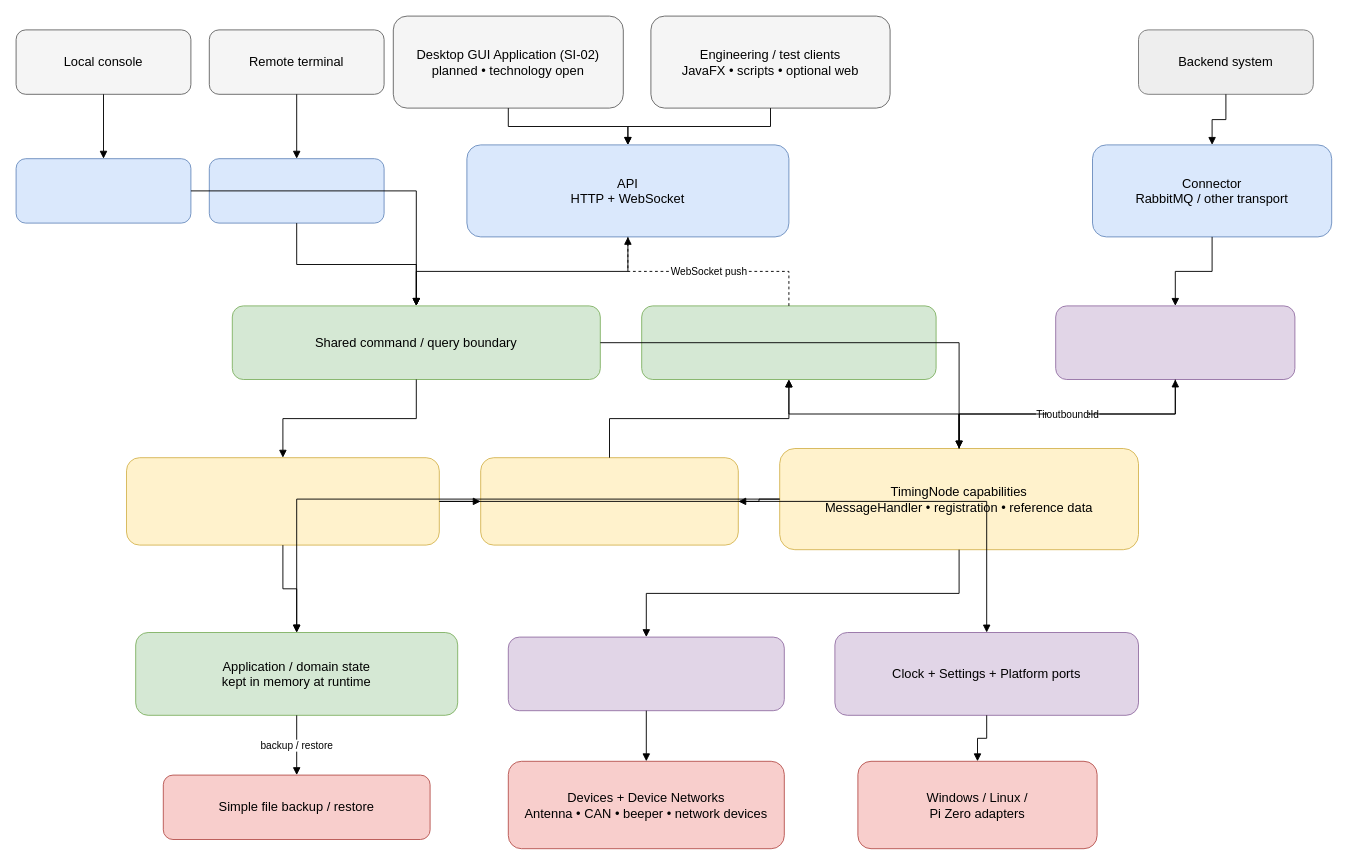
Some shapes in this 1348 by 865 pixel diagram are drawn without their labels. The shapes that lost their labels are listed below. From the top down, each one's centre as x and y in pixels, then its label:
(x=103, y=190): Console adapter
(x=296, y=190): Remote shell adapter
(x=788, y=342): Shared status + event stream
(x=1175, y=342): BackendGateway addressing / routing
(x=282, y=501): Timing Point Application (SI-01) ApplicationId • 1..N TimingNodes
(x=609, y=501): Status service immutable snapshots
(x=645, y=673): Device I/O + NetworkDeviceService
